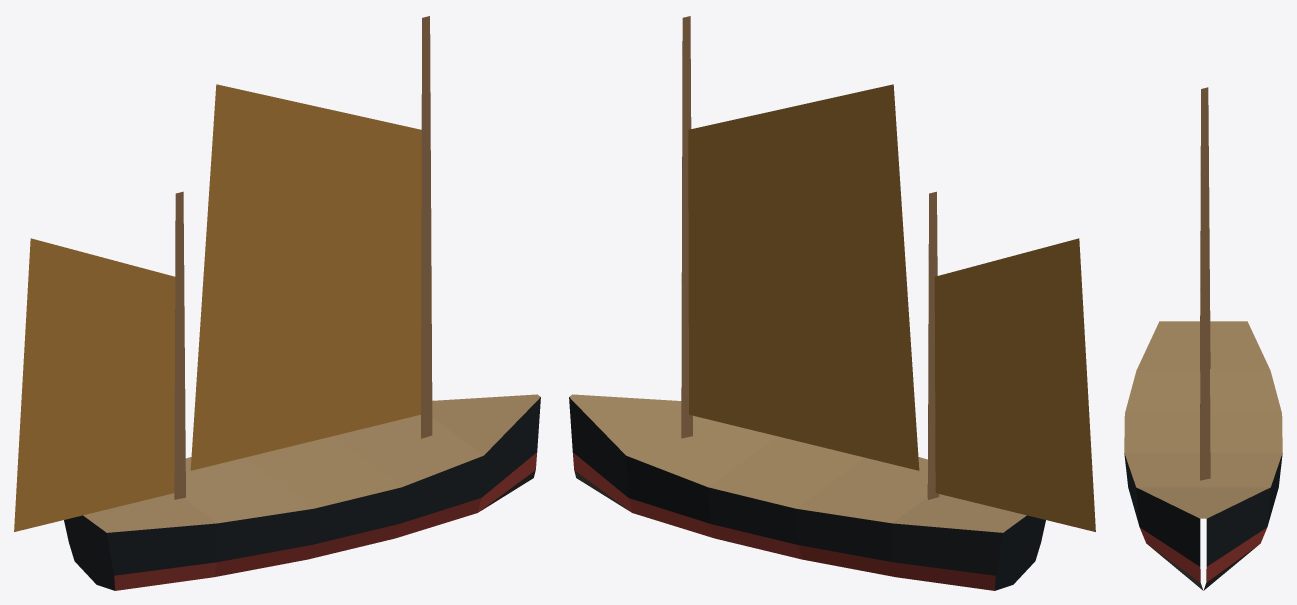
Rendered from hull_fiat_lugger_medium_lod.glb.
3 renders of one model, left to right at view 1: azimuth 30°, elevation 25°; view 2: azimuth 150°, elevation 25°; view 3: azimuth 270°, elevation 25°, orthographic. The views are drawn at different scales.
Parts seen in each view (by area): view 1: lod; view 2: lod; view 3: lod.
Part boxes in pixels (x1,y1,x2,y2): lod: [14, 16, 540, 590]; lod: [569, 16, 1095, 590]; lod: [1124, 87, 1282, 590].
Bounding box in the file's own units: 14.96 × 13.89 × 4.24.
